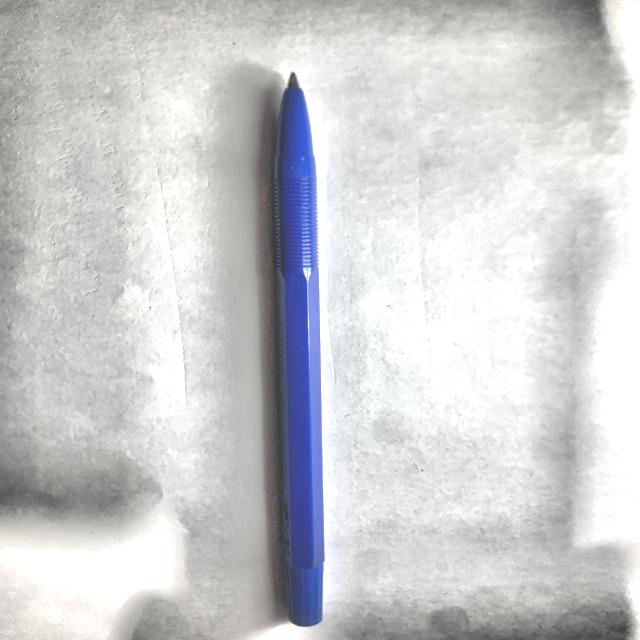Pulpen: (246, 62, 358, 637)
